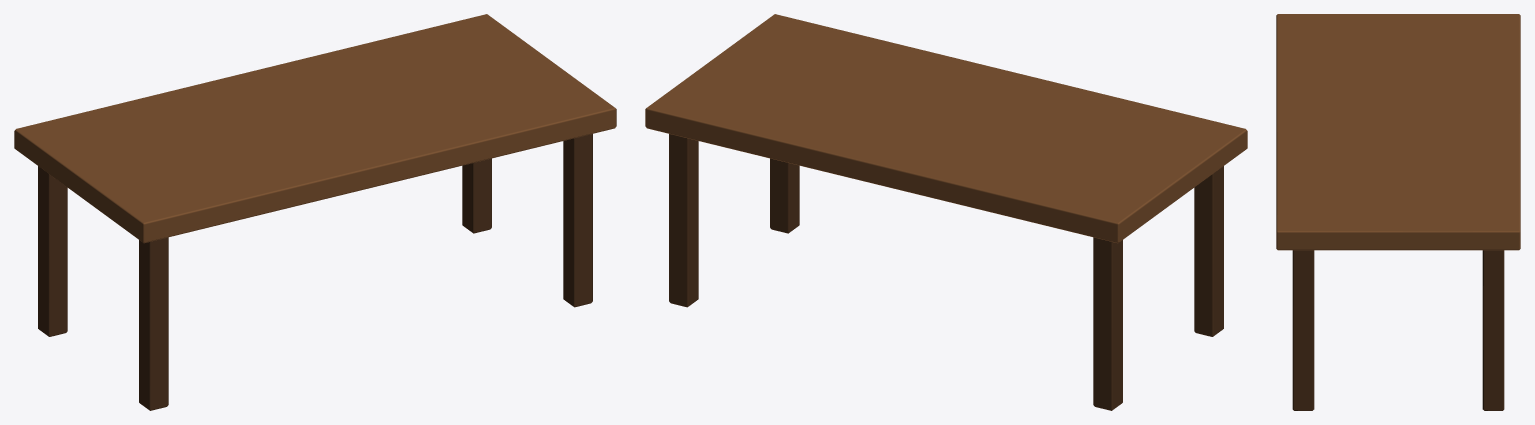
The model's file is table.30be06f8.glb.
3 views of the same model, side by side, from view 1: azimuth 30°, elevation 25°; view 2: azimuth 150°, elevation 25°; view 3: azimuth 270°, elevation 25° (orthographic). The views are drawn at different scales.
Parts seen in each view (by area): view 1: body; view 2: body; view 3: body.
Part boxes in pixels (bbox=[...]): body: bbox=[14, 14, 616, 410]; body: bbox=[645, 14, 1247, 410]; body: bbox=[1276, 14, 1520, 410].
Bounding box in the file's own units: 1.9 × 0.76 × 0.9.
